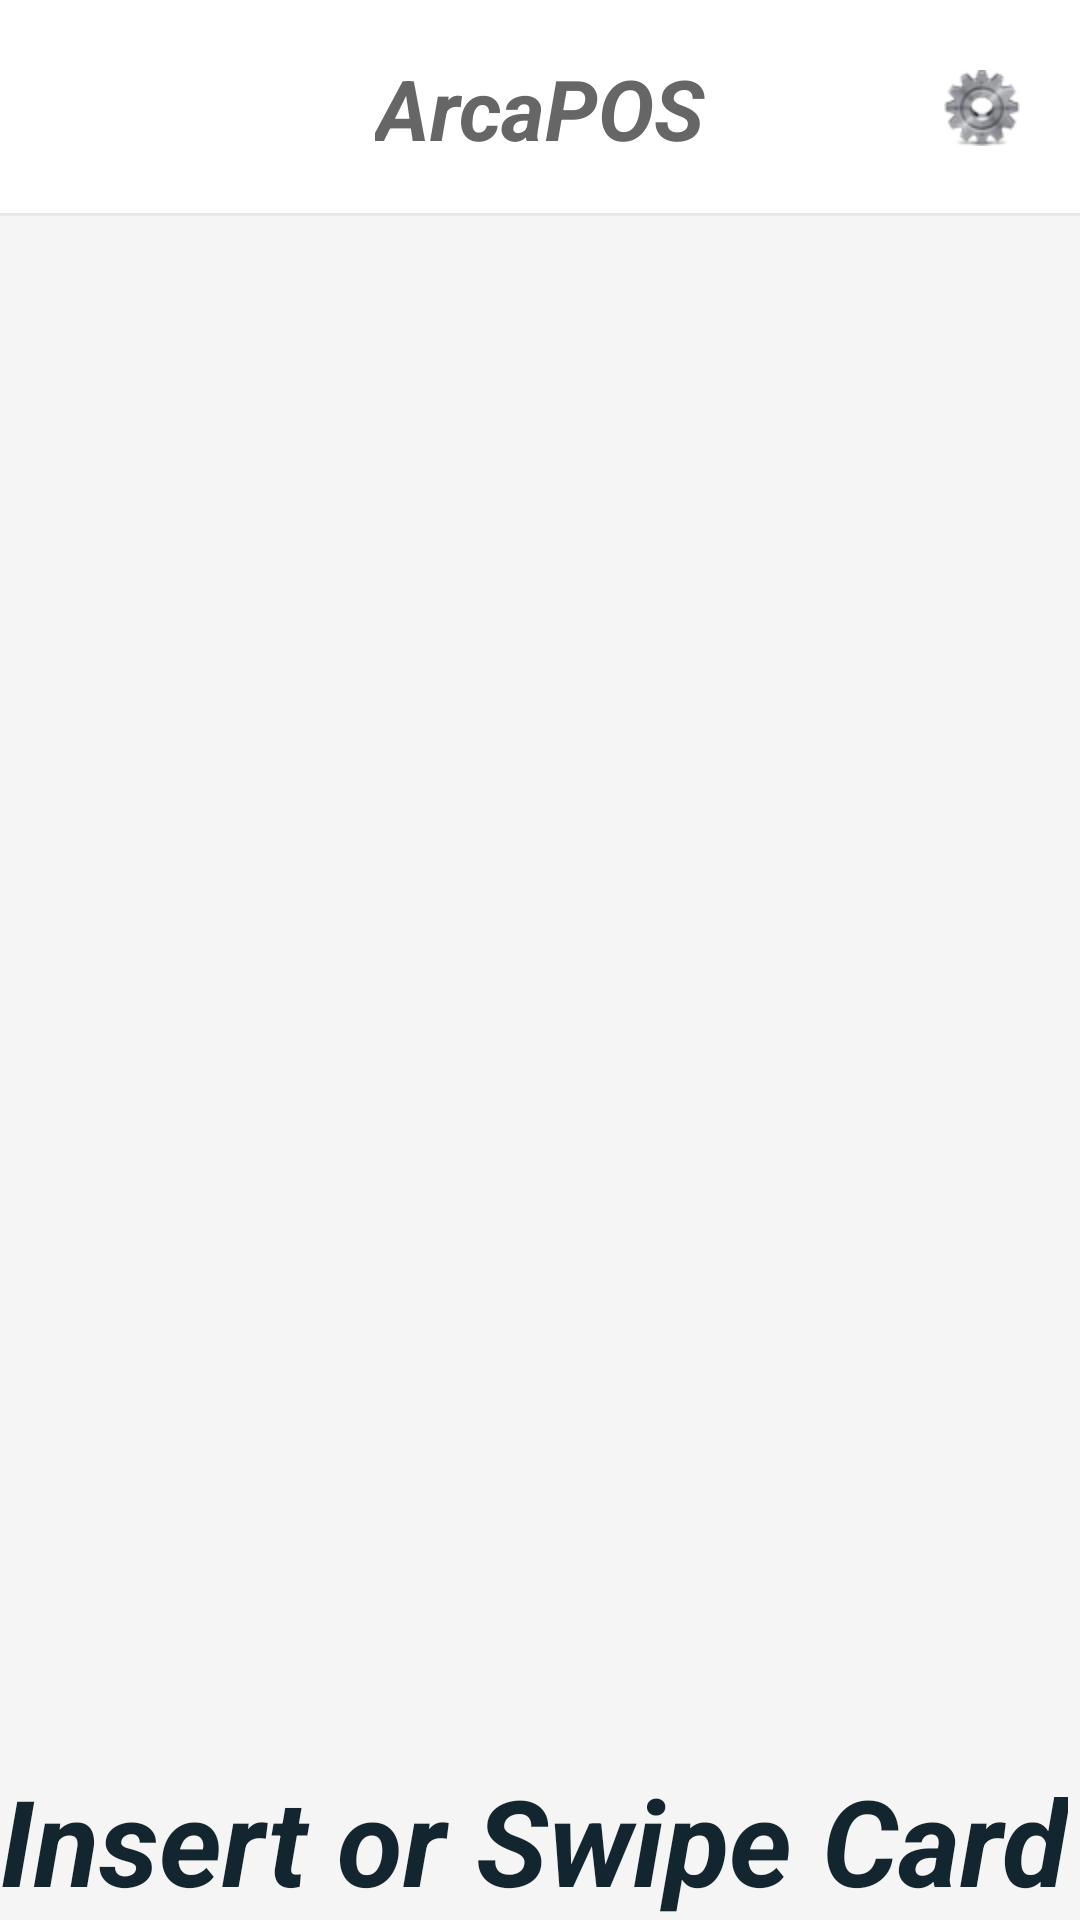

Icons on this 1080 × 1920 Android screen, each with the point to tap as (x,y):
settings: (982,108)
